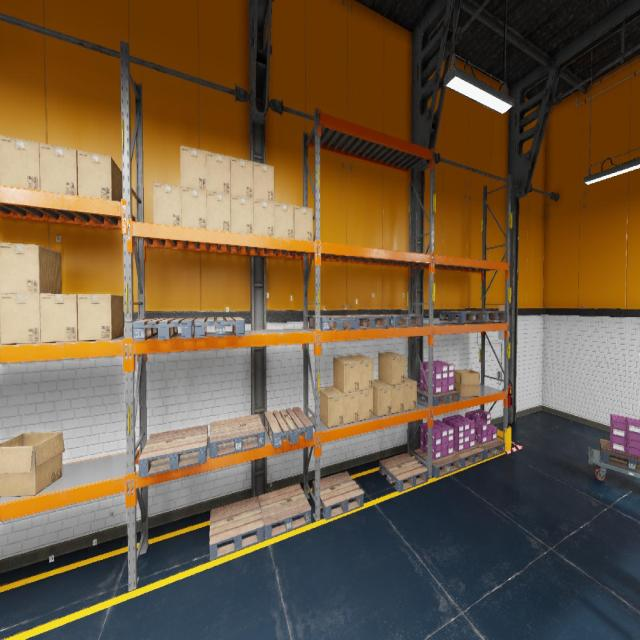box: (0, 432, 65, 496), (0, 242, 62, 294), (77, 150, 122, 201), (77, 294, 124, 341), (0, 135, 40, 190), (0, 294, 41, 344), (39, 143, 78, 195), (40, 294, 78, 342), (153, 182, 181, 226), (180, 145, 207, 190), (181, 186, 207, 228), (207, 151, 230, 194), (320, 386, 344, 427), (230, 156, 253, 198), (333, 356, 359, 393), (207, 191, 230, 232), (378, 379, 404, 414), (348, 354, 373, 390), (378, 352, 404, 385), (231, 195, 253, 234), (253, 162, 274, 201), (253, 199, 274, 237), (274, 202, 294, 239), (454, 369, 480, 397), (374, 379, 392, 417), (294, 206, 313, 240), (344, 391, 359, 424), (359, 388, 373, 421), (404, 377, 417, 411), (0, 320, 1, 344)
pallets: (138, 425, 208, 478), (210, 496, 264, 561), (258, 483, 311, 540), (312, 471, 364, 520), (210, 414, 264, 458), (264, 407, 313, 448), (379, 453, 428, 492), (414, 448, 461, 478), (132, 318, 196, 340), (600, 438, 640, 473), (194, 317, 245, 338), (417, 386, 459, 406), (309, 315, 356, 331), (454, 444, 484, 468), (344, 315, 390, 329), (475, 439, 505, 459), (380, 314, 422, 328), (439, 310, 485, 322), (461, 311, 506, 321)
